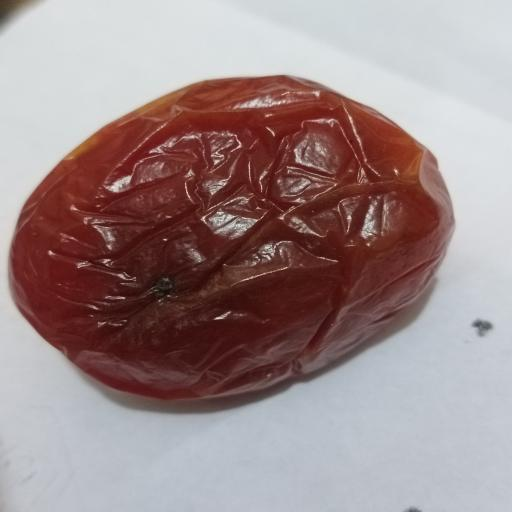spoiled: (10, 76, 452, 399)
